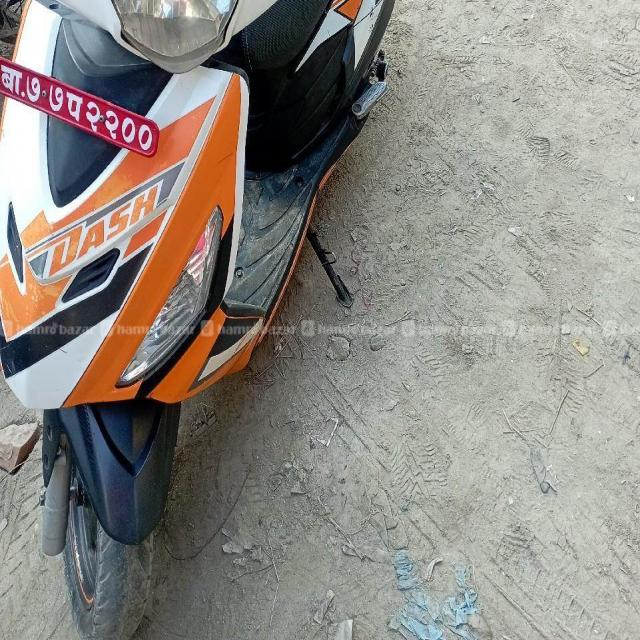License-plate: (0, 60, 159, 160)
